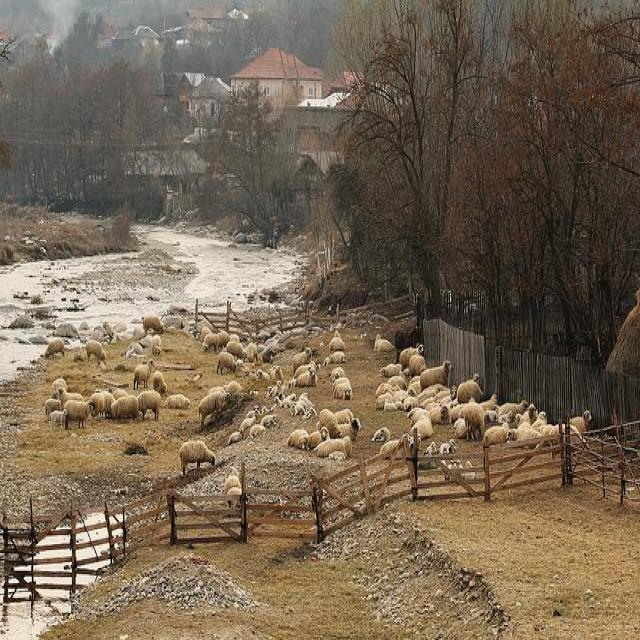Sheep: (40, 304, 599, 516)
